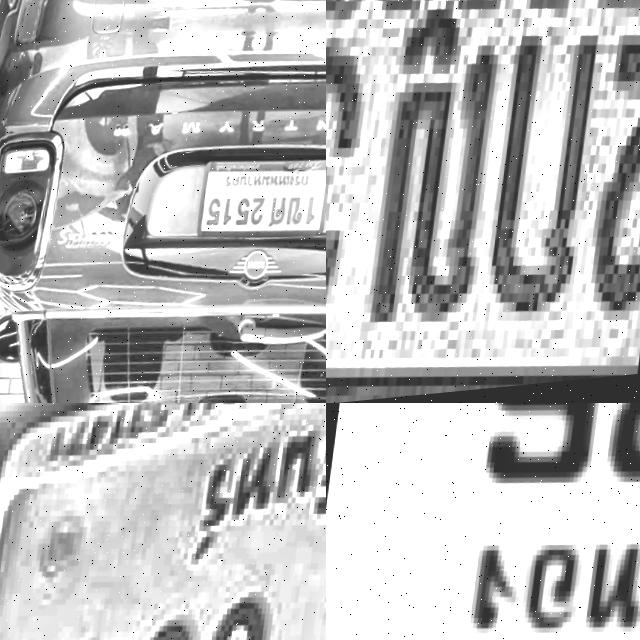license-plate: (326, 0, 640, 403), (0, 403, 326, 640), (326, 403, 640, 640), (193, 151, 326, 264)
